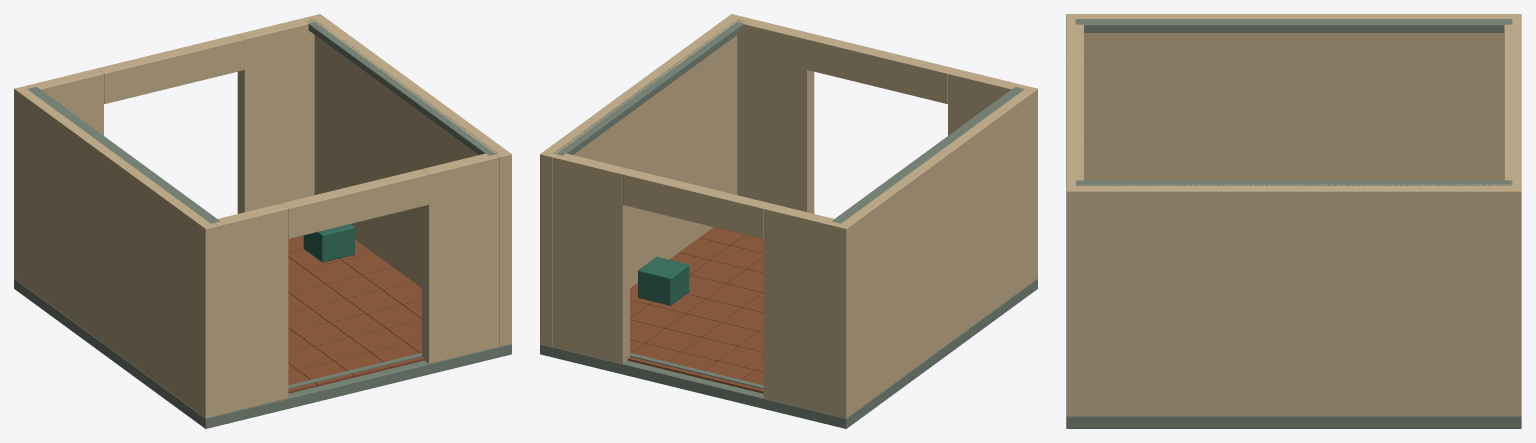
Rendered from source-edit.glb.
The picture shows the model from 3 angles, left to right: view 1: azimuth 30°, elevation 25°; view 2: azimuth 150°, elevation 25°; view 3: azimuth 270°, elevation 25°; orthographic projection. The views are drawn at different scales.
Visible parts, largest first — view 1: COURT_SideWall.001, COURT_SideWall, COURT_EndPier.002, COURT_EndPier.001, COURT_EndPier, COURT_Foundation, COURT_Lintel, COURT_Lintel.001, COURT_Cornice, COURT_EndPier.003, COURT_Cornice.001, COURT_Planter (+21 smaller); view 2: COURT_SideWall.001, COURT_SideWall, COURT_EndPier, COURT_EndPier.003, COURT_EndPier.002, COURT_Foundation, COURT_Lintel.001, COURT_Lintel, COURT_Cornice, COURT_EndPier.001, COURT_Planter, COURT_Cornice.001 (+21 smaller); view 3: COURT_SideWall, COURT_SideWall.001, COURT_Cornice.001, COURT_Foundation, COURT_Cornice, COURT_Lintel.001, COURT_Lintel, COURT_EndPier.002, COURT_EndPier, COURT_EndPier.001, COURT_EndPier.003.
Boxes of the visible parts, box(x1,y1,x2,y2) form: COURT_SideWall.001: box(14, 85, 218, 418); COURT_SideWall: box(308, 14, 511, 346); COURT_EndPier.002: box(422, 153, 498, 363); COURT_EndPier.001: box(215, 203, 288, 415); COURT_EndPier: box(237, 17, 314, 213); COURT_Foundation: box(14, 278, 511, 428); COURT_Lintel: box(97, 34, 244, 103); COURT_Lintel.001: box(281, 169, 428, 238); COURT_Cornice: box(306, 19, 498, 155); COURT_EndPier.003: box(27, 68, 103, 135); COURT_Cornice.001: box(27, 87, 220, 223); COURT_Planter: box(303, 224, 354, 262); COURT_SideWall.001: box(833, 85, 1037, 418); COURT_SideWall: box(540, 14, 743, 346); COURT_EndPier: box(553, 153, 629, 363); COURT_EndPier.003: box(763, 203, 837, 415); COURT_EndPier.002: box(737, 17, 814, 213); COURT_Foundation: box(540, 278, 1037, 428); COURT_Lintel.001: box(807, 34, 954, 103); COURT_Lintel: box(623, 169, 770, 238); COURT_Cornice: box(553, 19, 745, 155); COURT_EndPier.001: box(948, 68, 1024, 135); COURT_Planter: box(638, 256, 689, 305); COURT_Cornice.001: box(831, 87, 1024, 223); COURT_SideWall: box(1066, 184, 1521, 416); COURT_SideWall.001: box(1066, 14, 1521, 180); COURT_Cornice.001: box(1075, 19, 1512, 32); COURT_Foundation: box(1066, 416, 1521, 428); COURT_Cornice: box(1075, 180, 1512, 185); COURT_Lintel.001: box(1066, 62, 1083, 143); COURT_Lintel: box(1504, 62, 1521, 143); COURT_EndPier.002: box(1066, 143, 1083, 184); COURT_EndPier: box(1504, 143, 1521, 184); COURT_EndPier.001: box(1066, 21, 1083, 61); COURT_EndPier.003: box(1504, 21, 1521, 61).
Size of the model in its own units: 4.8 by 3 by 5.2.
